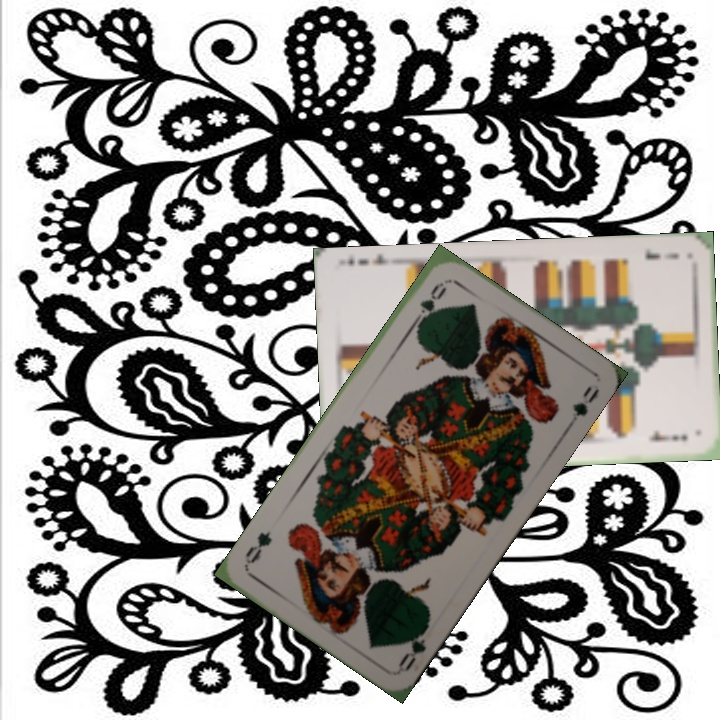E7: (642, 244, 681, 263)
GO: (407, 278, 449, 332), (394, 618, 432, 674)
